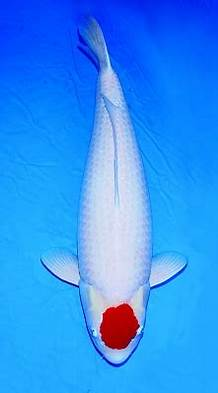sun: (40, 13, 187, 366)
